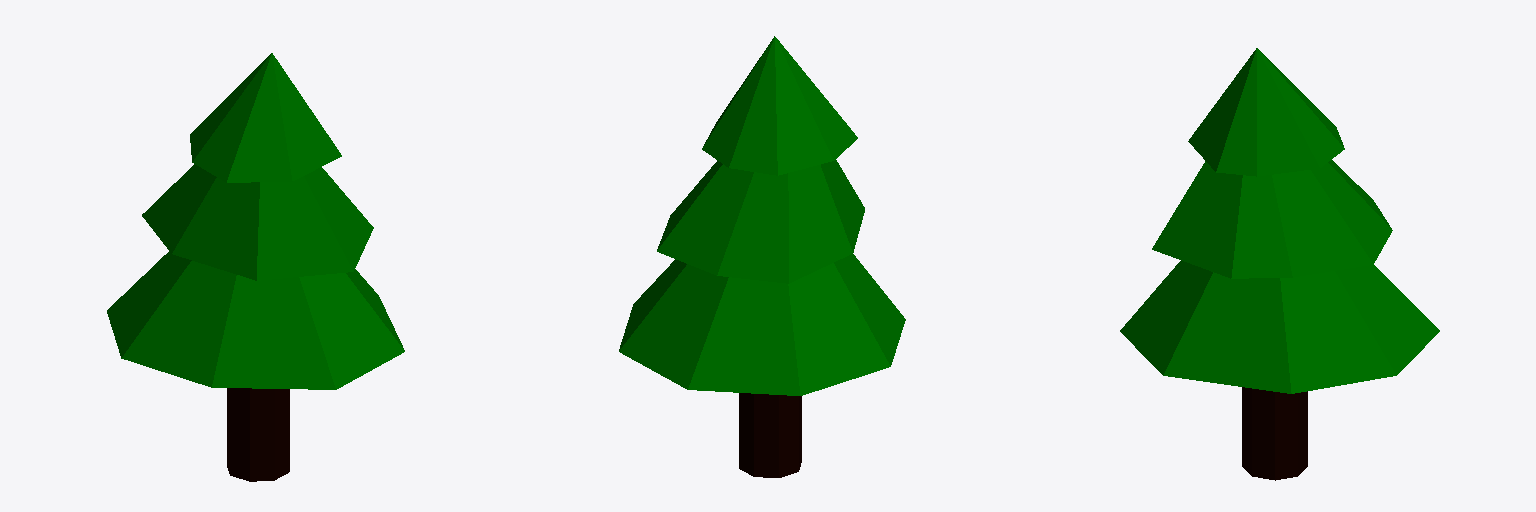
The model's file is arvore3obj.obj.
3 views of the same model, side by side, from view 1: azimuth 30°, elevation 25°; view 2: azimuth 150°, elevation 25°; view 3: azimuth 270°, elevation 25° (orthographic).
Parts seen in each view (by area): view 1: Cylinder_Material.002_0, Cylinder_Material.001_0; view 2: Cylinder_Material.002_0, Cylinder_Material.001_0; view 3: Cylinder_Material.002_0, Cylinder_Material.001_0.
Part boxes in pixels (x1,y1,x2,y2): Cylinder_Material.002_0: (107, 53, 404, 389); Cylinder_Material.001_0: (227, 388, 289, 481); Cylinder_Material.002_0: (619, 36, 905, 395); Cylinder_Material.001_0: (739, 393, 801, 477); Cylinder_Material.002_0: (1120, 48, 1439, 393); Cylinder_Material.001_0: (1242, 387, 1307, 480).
Size of the model in its own units: 279 by 436 by 301.